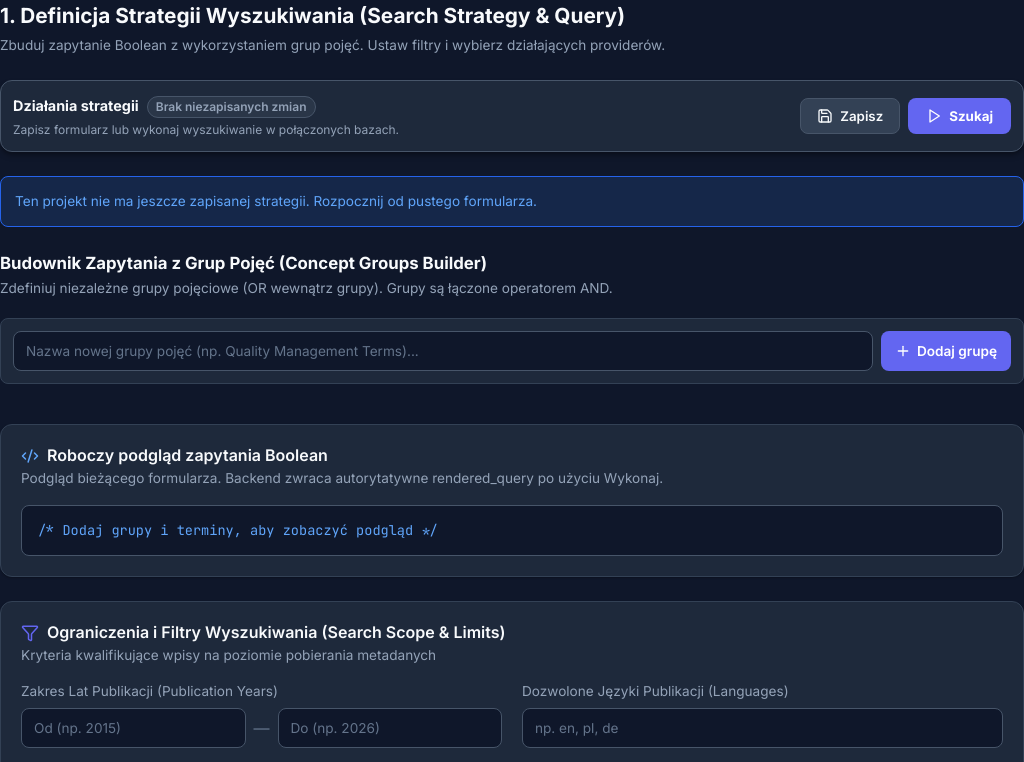
Test: persistent Search Strategy GUI & Execution › 13. 404 -> pusty formularz z pustą listą providerów -> blokada zapisu bez wyboru -> OpenAlex zaznaczalny -> zapis pierwszej strategii
Expected: the text "nie ma jeszcze zapisanej strategii" is shown, [15,193,537,209]
# Dodajmy grupę pojęć
Type "Energy" into the field labelled "Nazwa nowej grupy".
click(443, 351); type("Energy")  # box [13,331,873,371]
Click the button "Dodaj grupę".
click(946, 351)  # box [881,331,1011,371]
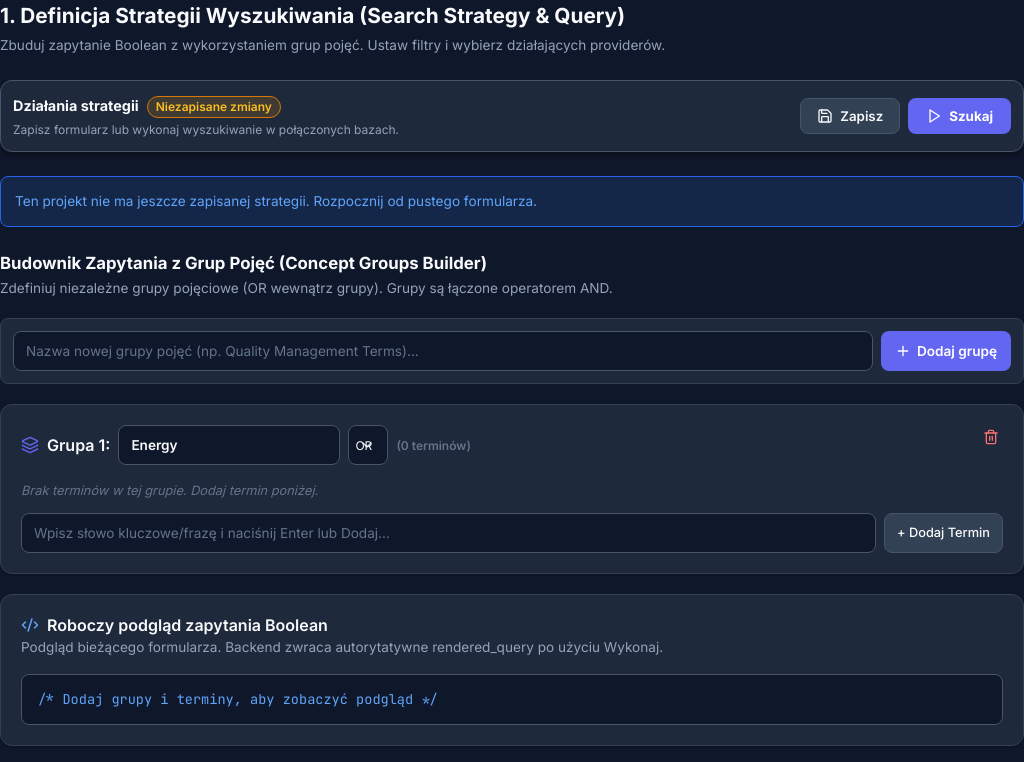
Type "solar" into the field named "Nowy termin grupy 1".
click(448, 532); type("solar")  # box [21,512,876,552]
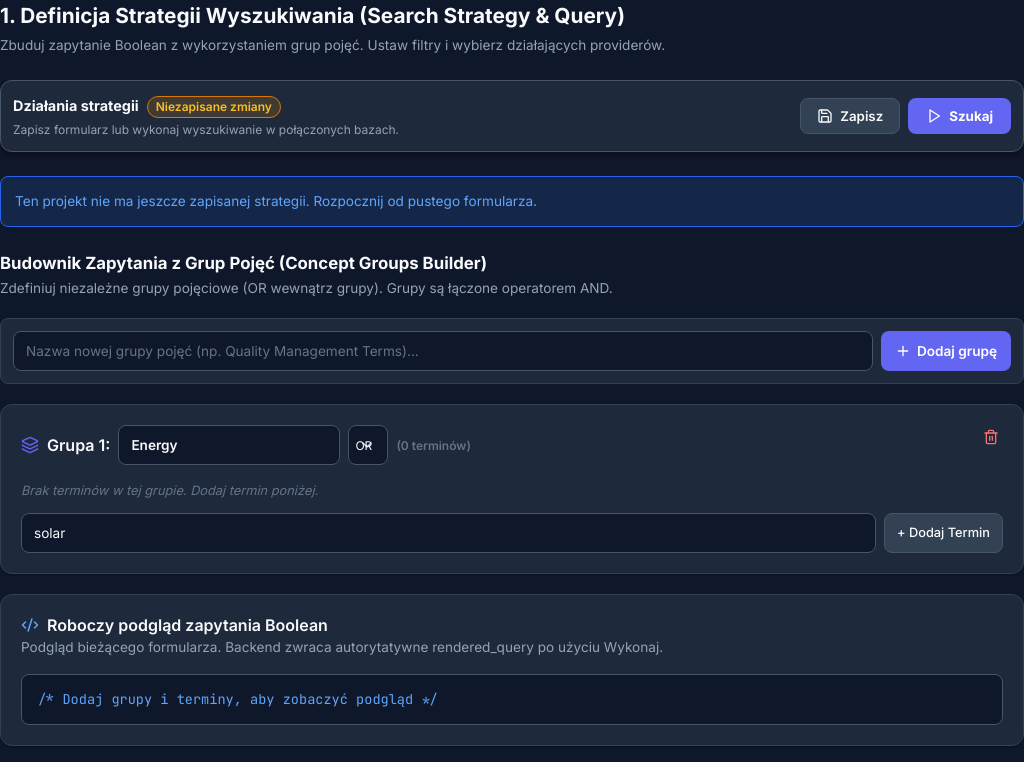
Press Enter in the field named "Nowy termin grupy 1", box [21,512,876,552]
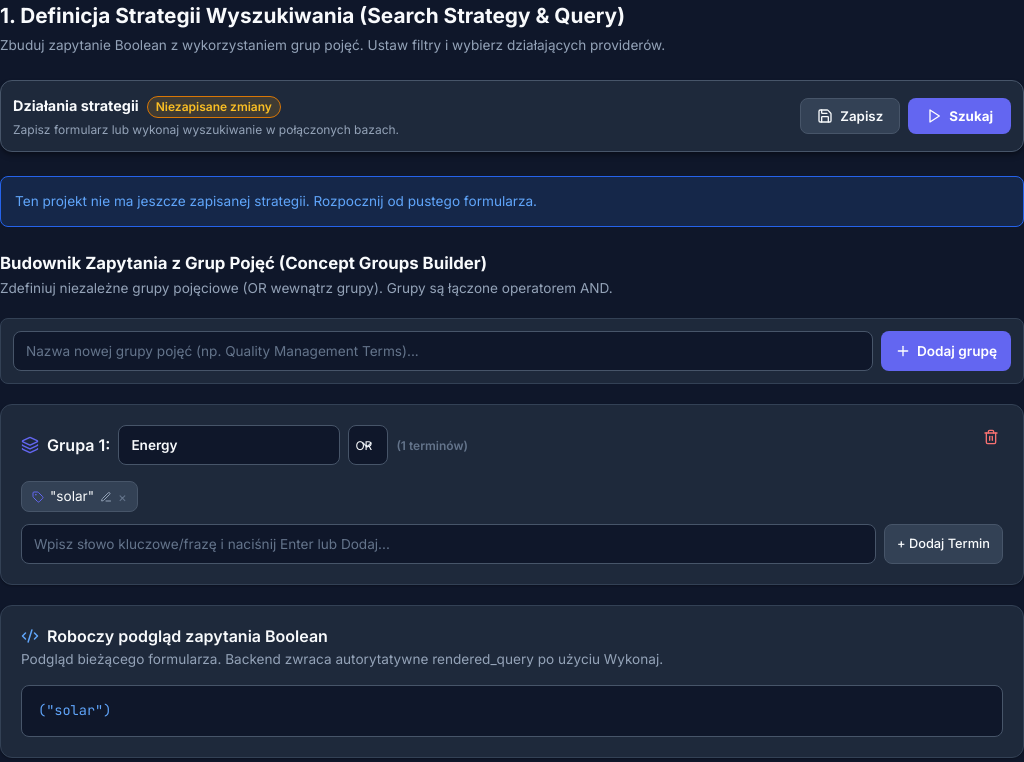
Click the button "Zapisz".
click(850, 116)  # box [800,98,900,134]
(page scrolled)
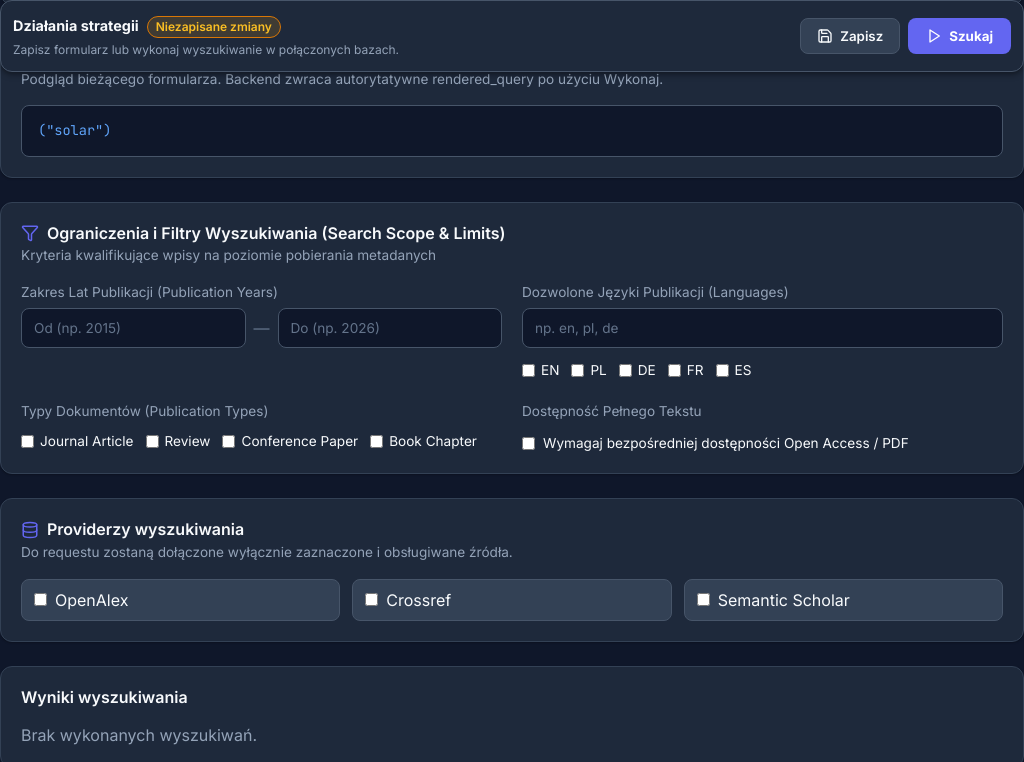
Click the checkbox labelled "OpenAlex".
click(40, 600)  # box [34,593,47,606]
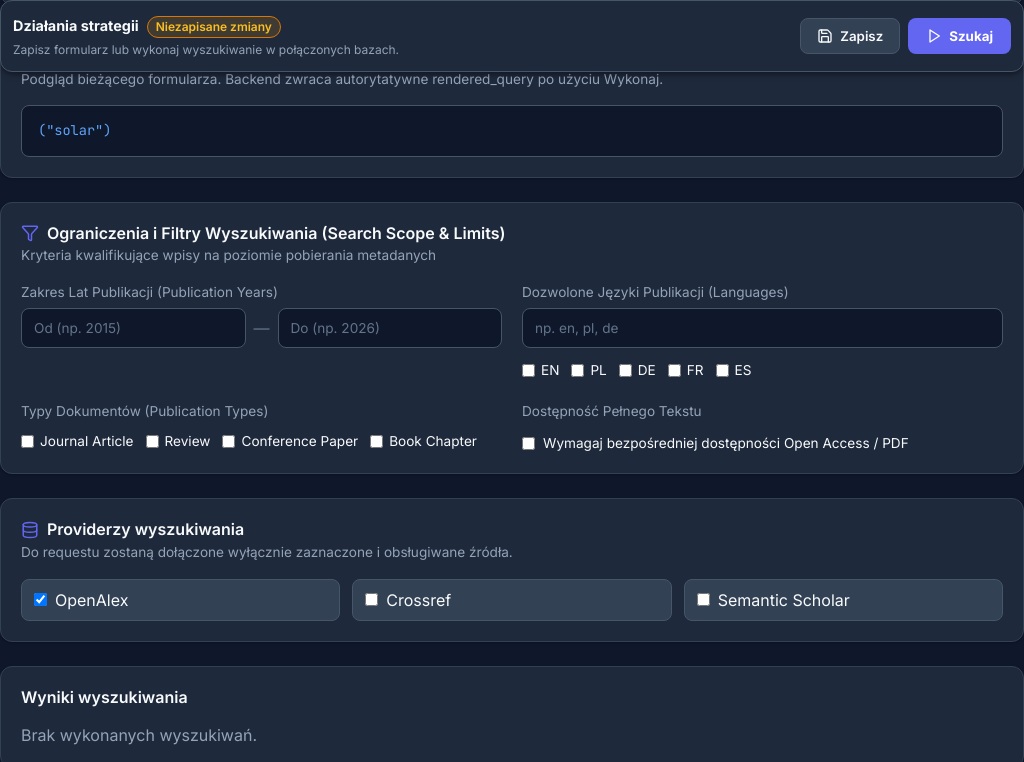
Click the button "Zapisz".
click(850, 36)  # box [800,18,900,54]
(page scrolled)
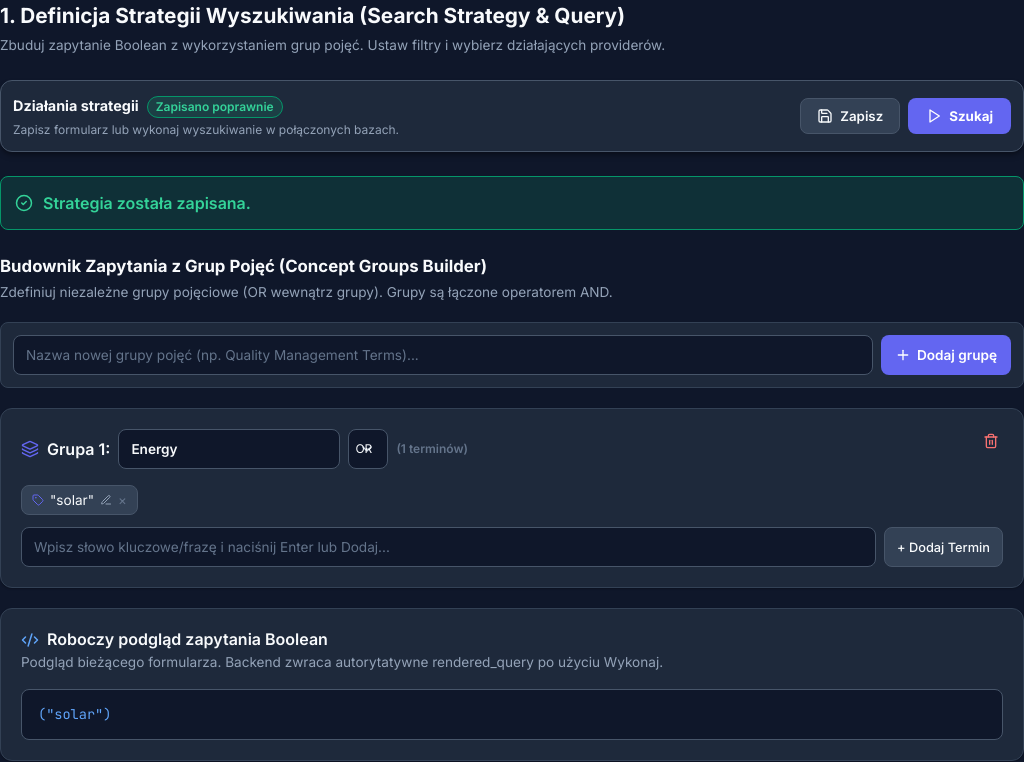
Expected: the text "Strategia została zapisana." is shown, [0,176,1023,230]
